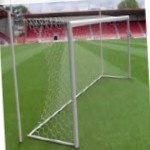goals: (25, 15, 133, 148)
